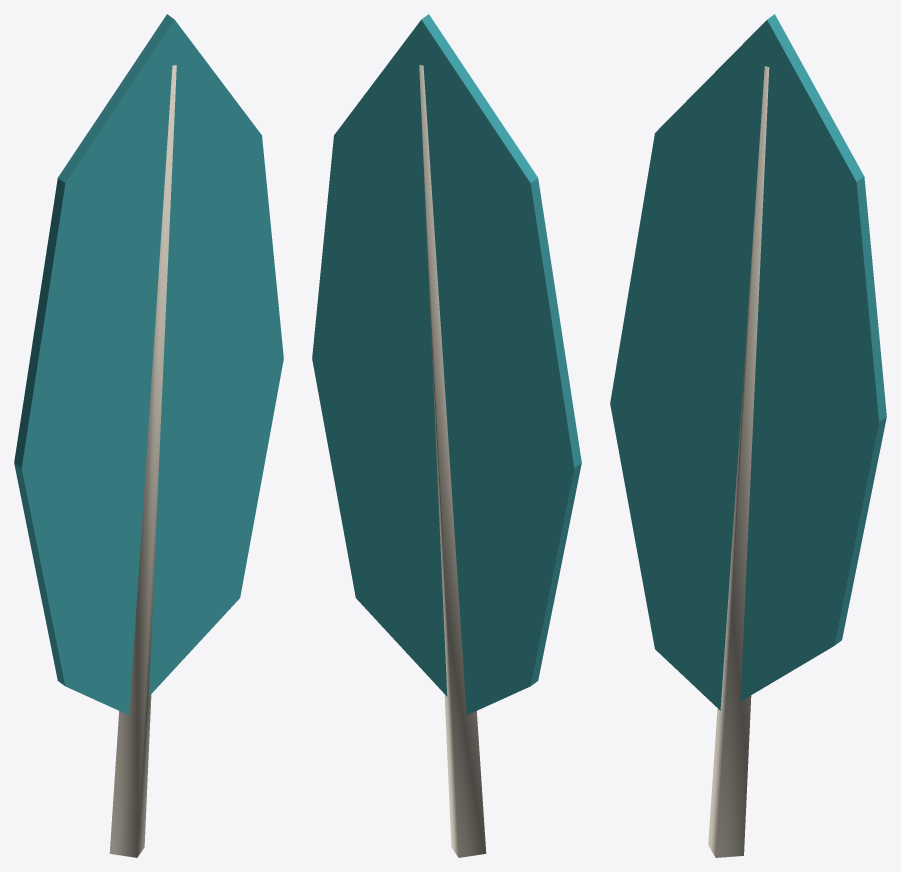
Rendered from waterleaf.glb.
3 renders of one model, left to right at view 1: azimuth 30°, elevation 25°; view 2: azimuth 150°, elevation 25°; view 3: azimuth 330°, elevation 25°, orthographic. The views are drawn at different scales.
Parts seen in each view (by area): view 1: waterleaf_v0; view 2: waterleaf_v0; view 3: waterleaf_v0.
Boxes of the visible parts, x1,y1,x2,y2 form: waterleaf_v0: [14, 14, 283, 857]; waterleaf_v0: [312, 14, 581, 857]; waterleaf_v0: [610, 14, 886, 857].
Size of the model in its own units: 0.12 by 0.3605 by 0.016.
